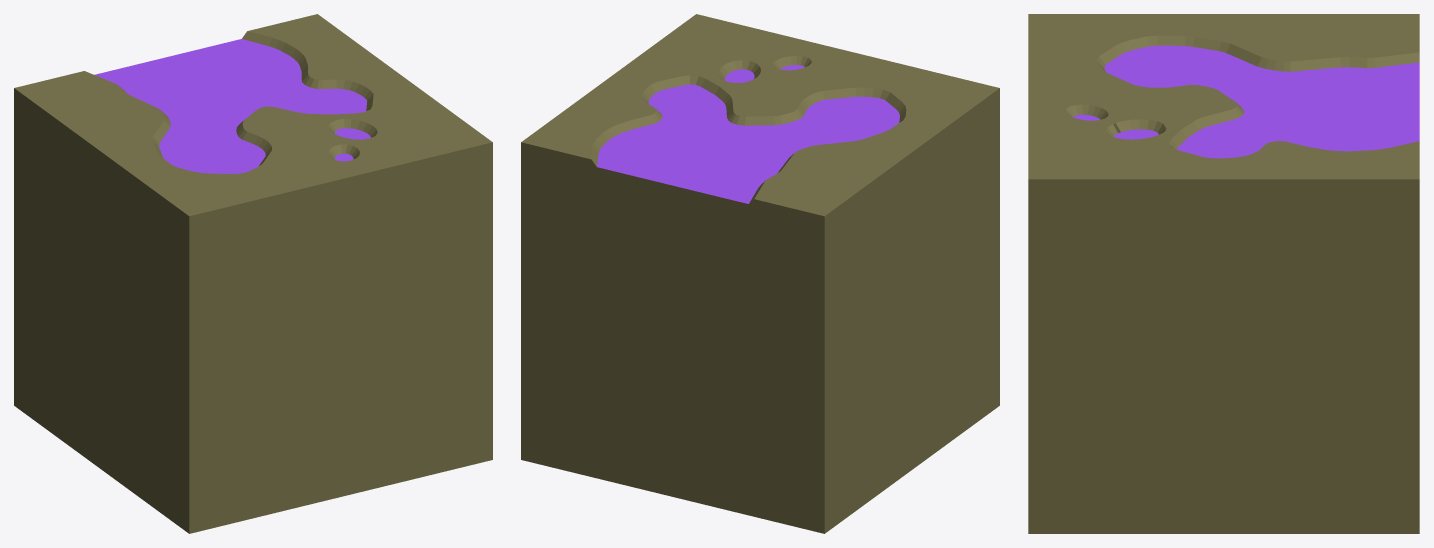
File: tile_toxic_2_02.fbx
The picture shows the model from 3 angles, left to right: view 1: azimuth 30°, elevation 25°; view 2: azimuth 150°, elevation 25°; view 3: azimuth 270°, elevation 25°; orthographic projection. The views are drawn at different scales.
Visible parts, largest first — view 1: tile_toxic_2_02; view 2: tile_toxic_2_02; view 3: tile_toxic_2_02.
Boxes of the visible parts, x1,y1,x2,y2 form: tile_toxic_2_02: [14, 14, 492, 533]; tile_toxic_2_02: [521, 14, 999, 533]; tile_toxic_2_02: [1028, 14, 1419, 533].
Size of the model in its own units: 100 by 100 by 100.
